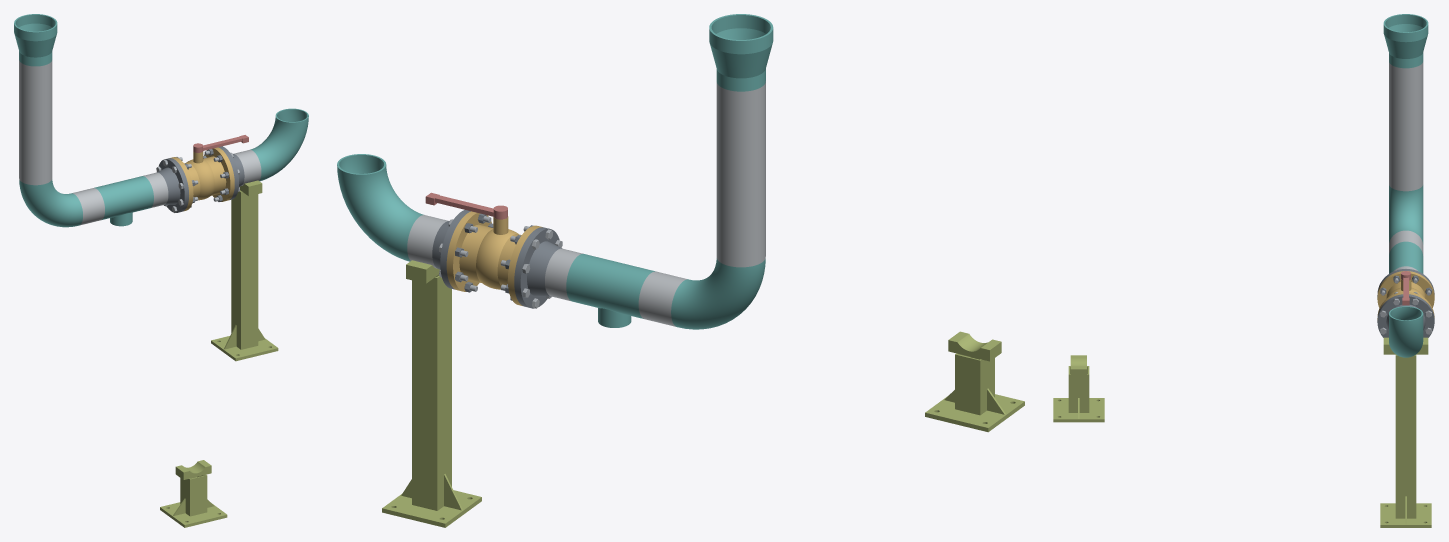
File: step_74.glb
3 views of the same model, side by side, from view 1: azimuth 30°, elevation 25°; view 2: azimuth 150°, elevation 25°; view 3: azimuth 270°, elevation 25° (orthographic). The views are drawn at different scales.
Visible parts, largest first — view 1: part__pipe support SP-101, tall, part__6" pipe, left riser, 664 long, part__pipe support SP-101, short, part__6" elbow bottom right, part__6" ball valve body BV-101, part__6" elbow bottom left, part__6" x 4" reducing tee, part__reducer left riser, part__6" flange, ball valve inlet, part__6" pipe, tee to the left bend, 128 long, part__6" pipe, ball valve to the right bend, 99 long, part__6" pipe, tee to the ball valve, 85 long (+2 smaller); view 2: part__pipe support SP-101, tall, part__6" pipe, left riser, 664 long, part__pipe support SP-101, short, part__6" elbow bottom right, part__6" ball valve body BV-101, part__6" elbow bottom left, part__6" x 4" reducing tee, part__reducer left riser, part__6" flange, ball valve inlet, part__6" pipe, tee to the left bend, 128 long, part__6" pipe, ball valve to the right bend, 99 long, part__6" pipe, tee to the ball valve, 85 long (+2 smaller); view 3: part__pipe support SP-101, tall, part__6" pipe, left riser, 664 long, part__pipe support SP-101, short, part__reducer left riser, part__6" elbow bottom right, part__6" elbow bottom left, part__6" ball valve body BV-101, part__6" flange, ball valve outlet, part__6" x 4" reducing tee.
Boxes of the visible parts, bbox=[...] form: part__pipe support SP-101, tall: bbox=[211, 180, 278, 361]; part__6" pipe, left riser, 664 long: bbox=[19, 60, 52, 185]; part__pipe support SP-101, short: bbox=[160, 460, 227, 527]; part__6" elbow bottom right: bbox=[250, 108, 308, 181]; part__6" ball valve body BV-101: bbox=[171, 147, 234, 211]; part__6" elbow bottom left: bbox=[19, 179, 82, 227]; part__6" x 4" reducing tee: bbox=[94, 176, 153, 226]; part__reducer left riser: bbox=[14, 14, 57, 66]; part__6" flange, ball valve inlet: bbox=[156, 158, 188, 212]; part__6" pipe, tee to the left bend, 128 long: bbox=[72, 188, 104, 225]; part__6" pipe, ball valve to the right bend, 99 long: bbox=[233, 150, 261, 185]; part__6" pipe, tee to the ball valve, 85 long: bbox=[143, 172, 168, 207]; part__pipe support SP-101, tall: bbox=[382, 260, 481, 527]; part__6" pipe, left riser, 664 long: bbox=[716, 81, 765, 267]; part__pipe support SP-101, short: bbox=[925, 331, 1024, 432]; part__6" elbow bottom right: bbox=[337, 154, 423, 261]; part__6" ball valve body BV-101: bbox=[446, 211, 542, 305]; part__6" elbow bottom left: bbox=[671, 258, 765, 329]; part__6" x 4" reducing tee: bbox=[566, 254, 654, 327]; part__reducer left riser: bbox=[709, 14, 773, 91]; part__6" flange, ball valve inlet: bbox=[514, 227, 562, 308]; part__6" pipe, tee to the left bend, 128 long: bbox=[638, 271, 687, 326]; part__6" pipe, ball valve to the right bend, 99 long: bbox=[407, 215, 448, 268]; part__6" pipe, tee to the ball valve, 85 long: bbox=[545, 248, 583, 300]; part__pipe support SP-101, tall: bbox=[1380, 337, 1431, 527]; part__6" pipe, left riser, 664 long: bbox=[1389, 62, 1423, 191]; part__pipe support SP-101, short: bbox=[1053, 355, 1104, 422]; part__reducer left riser: bbox=[1383, 14, 1428, 68]; part__6" elbow bottom right: bbox=[1389, 306, 1423, 357]; part__6" elbow bottom left: bbox=[1389, 185, 1423, 244]; part__6" ball valve body BV-101: bbox=[1377, 271, 1434, 319]; part__6" flange, ball valve outlet: bbox=[1377, 294, 1434, 337]; part__6" x 4" reducing tee: bbox=[1389, 241, 1423, 273].
Bounding box in the file's own units: 1709 × 2095 × 1865.
